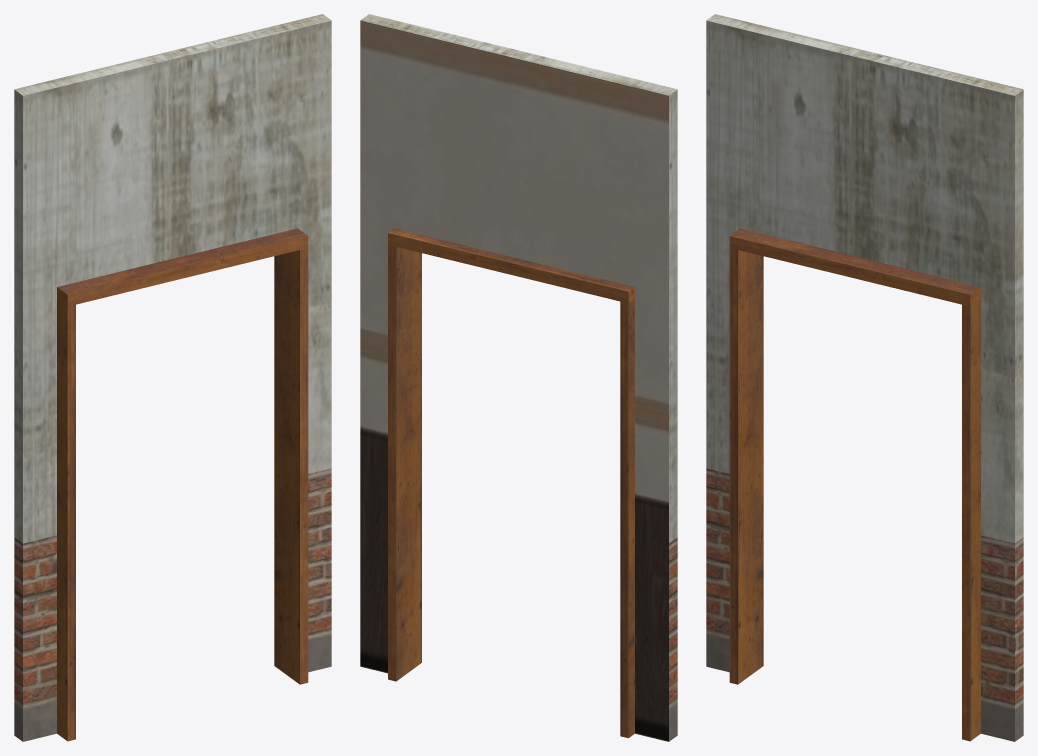
File: SingleDoorWallOutPlusIn.glb
The picture shows the model from 3 angles, left to right: view 1: azimuth 30°, elevation 25°; view 2: azimuth 150°, elevation 25°; view 3: azimuth 330°, elevation 25°; orthographic projection.
Parts seen in each view (by area): view 1: DoorFrame; view 2: DoorFrame; view 3: DoorFrame.
Part boxes in pixels (<box>): DoorFrame: <box>14,14,331,741</box>; DoorFrame: <box>360,14,677,741</box>; DoorFrame: <box>706,14,1023,741</box>.
Bounding box in the file's own units: 2 × 4 × 0.2896.
4 materials, 4 textured.
